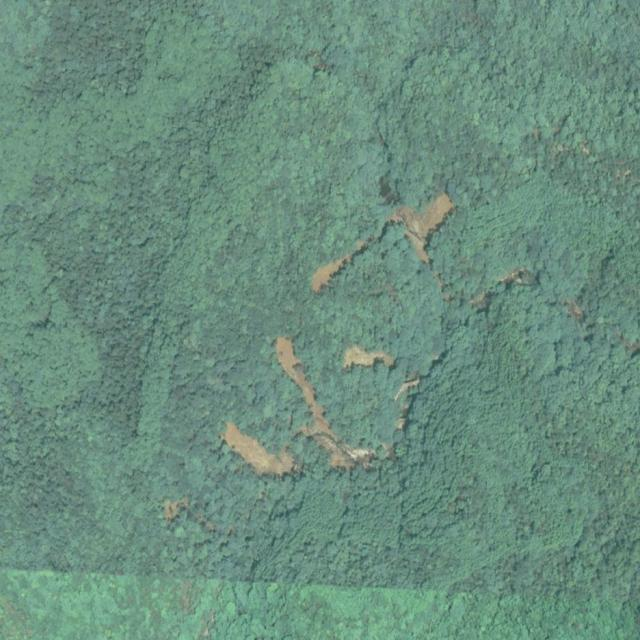landslide: (276, 337, 377, 471), (381, 193, 455, 264), (312, 238, 381, 293), (228, 426, 297, 476), (346, 347, 395, 366)
